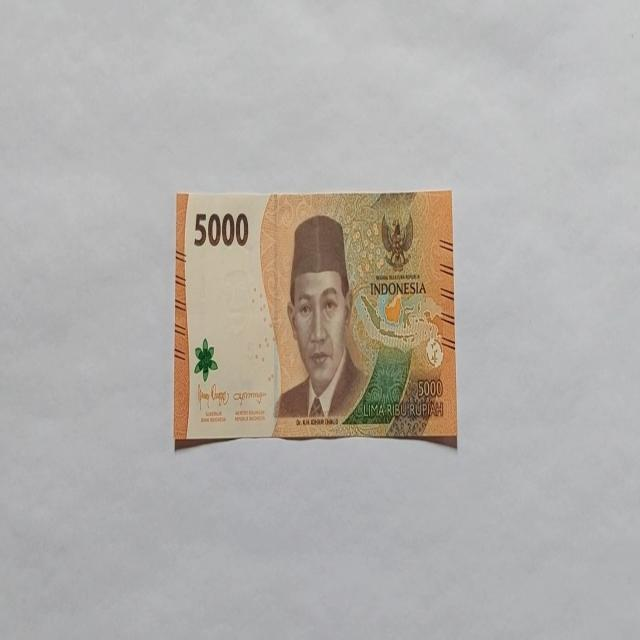lima ribu rupiah: (172, 188, 458, 450), (274, 213, 368, 423)
